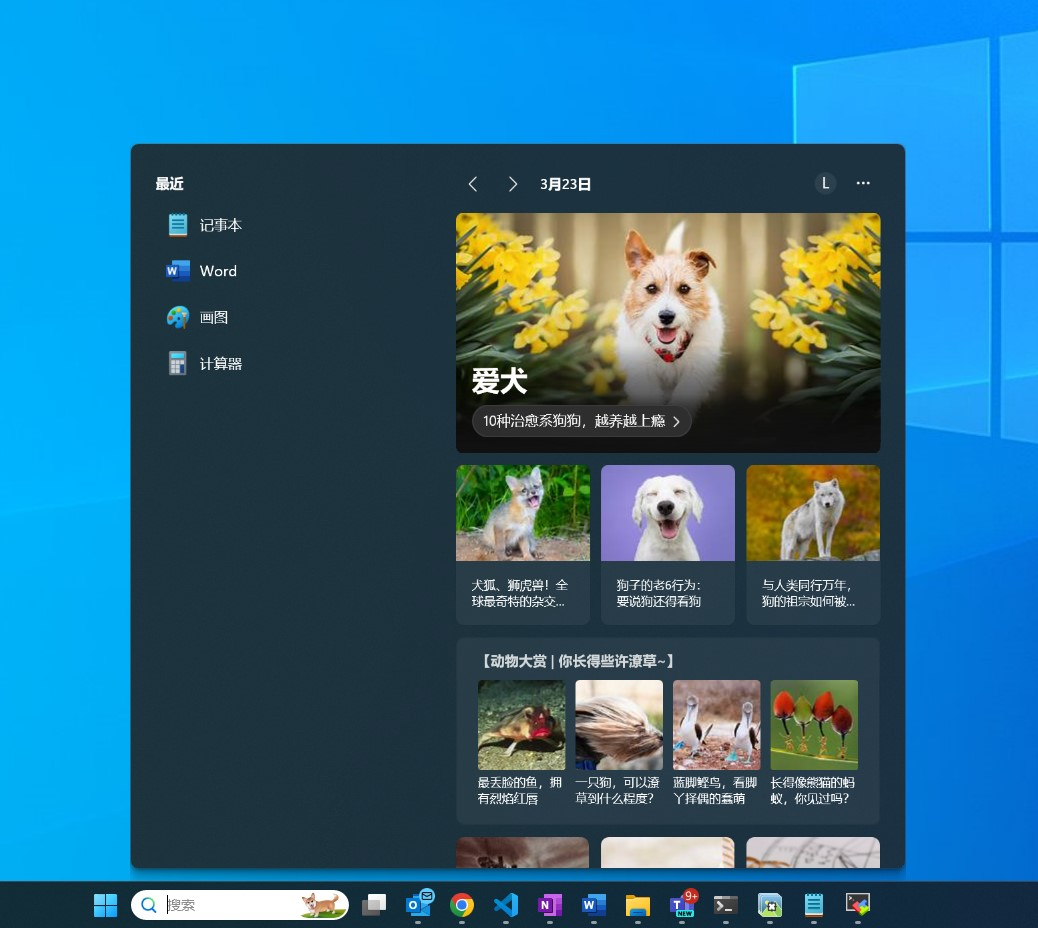search_box: (130, 890, 349, 923)
start_bar: (88, 887, 121, 920)
